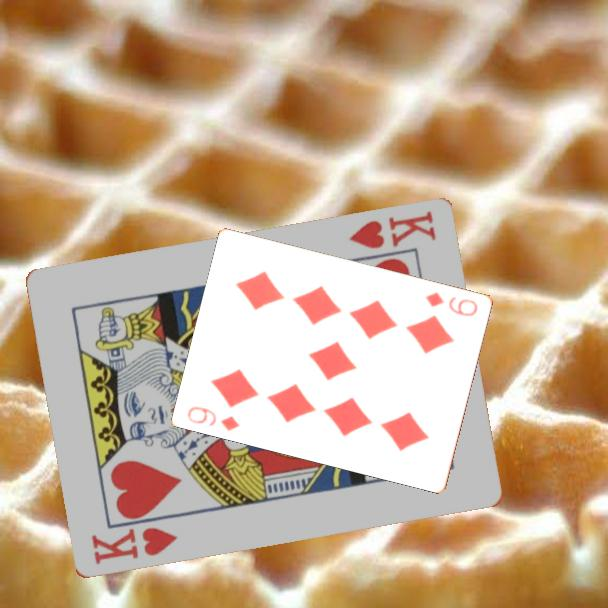d09: (184, 402, 243, 434), (422, 288, 481, 319)
h13: (87, 524, 181, 568), (345, 208, 439, 252)
